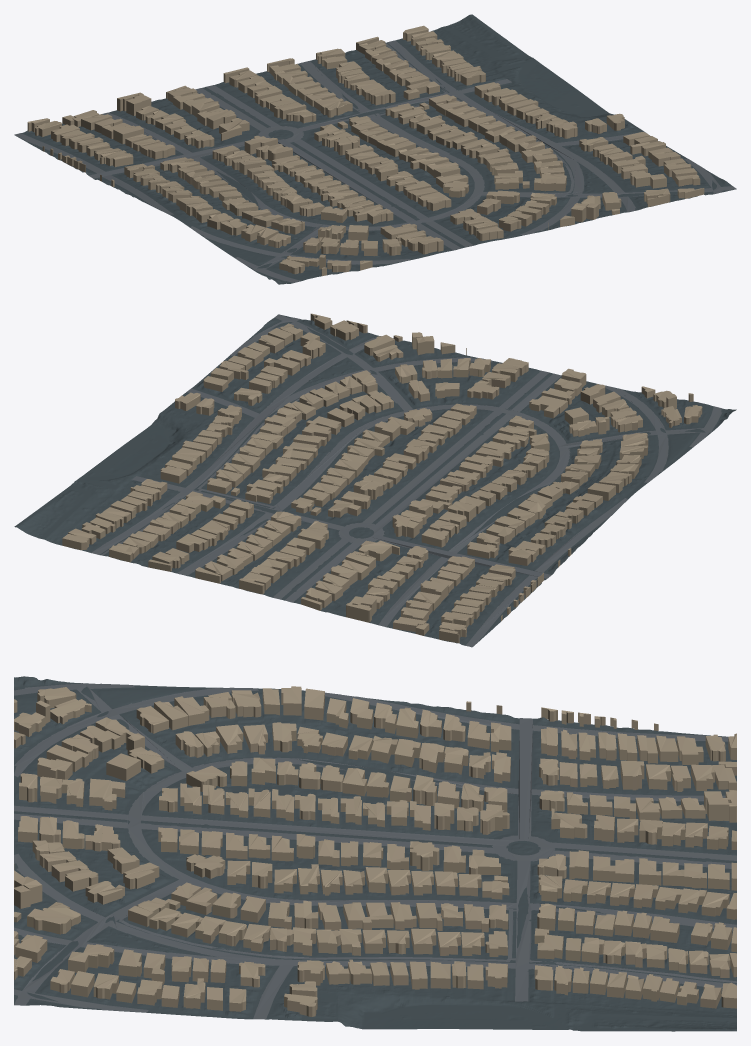
The model's file is epsg26910-1426-10874.lod0.glb.
3 renders of one model, top to bottom at view 1: azimuth 30°, elevation 25°; view 2: azimuth 150°, elevation 25°; view 3: azimuth 270°, elevation 25°, orthographic. The views are drawn at different scales.
Parts seen in each view (by area): view 1: epsg26910-1426-10874-lod0; view 2: epsg26910-1426-10874-lod0; view 3: epsg26910-1426-10874-lod0.
Part boxes in pixels (x1=…): epsg26910-1426-10874-lod0: x1=14, y1=14, x2=736, y2=284; epsg26910-1426-10874-lod0: x1=14, y1=313, x2=736, y2=647; epsg26910-1426-10874-lod0: x1=14, y1=676, x2=736, y2=1031.
Size of the model in its own units: 384 by 42.17 by 384.
